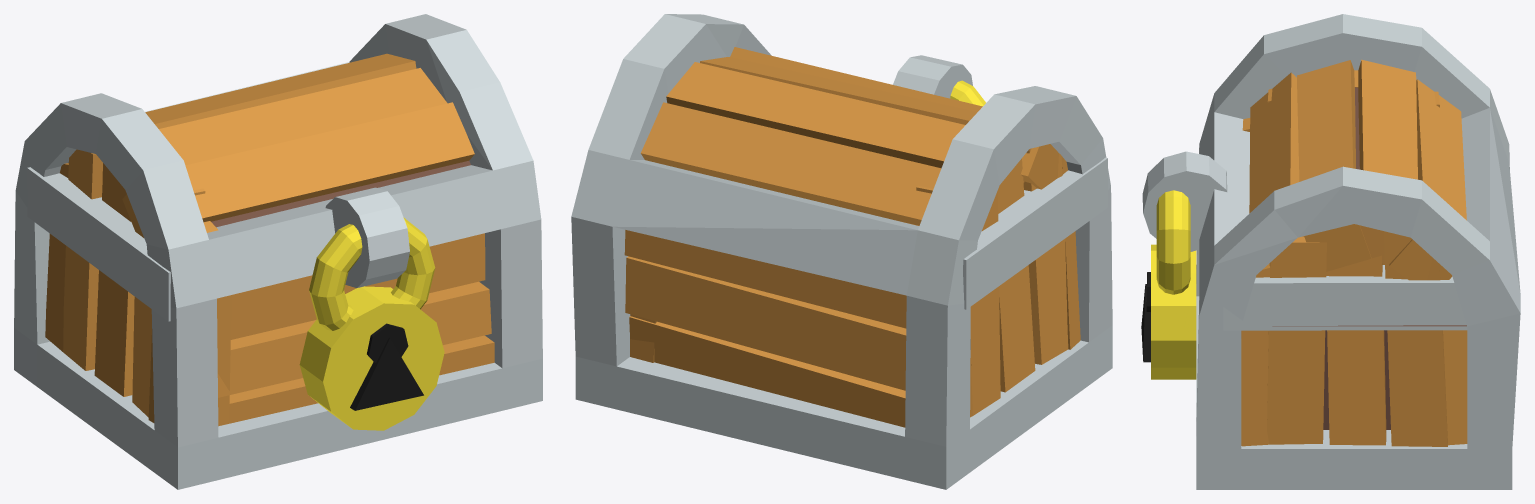
Rendered from TreasureChest.glb.
3 views of the same model, side by side, from view 1: azimuth 30°, elevation 25°; view 2: azimuth 150°, elevation 25°; view 3: azimuth 270°, elevation 25° (orthographic). The views are drawn at different scales.
Visible parts, largest first — view 1: group499985679, group310615892, group1052151225, group1423316105, group1317139868, group1180696515, group1203509567, group6712564, group1760450947, group1261123680, group1099241048, group1043152443 (+6 smaller); view 2: group499985679, group1388036914, group444722293, group1760450947, group362589451, group1317139868, group226312246, group1043152443, group2018329878, group1423316105, group310615892, group1099241048 (+2 smaller); view 3: group499985679, group780666706, group983706439, group1423316105, group802177887, group998265266, group1760450947, group1388036914, group310615892, group1052151225, group1261123680, group6712564 (+3 smaller).
Part boxes in pixels (x1,y1,x2,y2): group499985679: (14, 14, 542, 489); group310615892: (122, 102, 474, 237); group1052151225: (299, 286, 444, 430); group1423316105: (159, 68, 447, 165); group1317139868: (27, 167, 170, 321); group1180696515: (217, 281, 491, 397); group1203509567: (230, 233, 485, 339); group6712564: (309, 217, 435, 330); group1760450947: (102, 53, 416, 176); group1261123680: (325, 187, 409, 288); group1099241048: (63, 149, 102, 370); group1043152443: (94, 163, 134, 396); group499985679: (571, 14, 1112, 489); group1388036914: (640, 102, 941, 225); group444722293: (625, 256, 906, 390); group1760450947: (666, 62, 965, 168); group362589451: (629, 316, 905, 427); group1317139868: (963, 157, 1107, 309); group226312246: (624, 230, 906, 328); group1043152443: (998, 158, 1035, 392); group2018329878: (1023, 148, 1068, 364); group1423316105: (700, 57, 1024, 182); group310615892: (730, 47, 1064, 189); group1099241048: (916, 186, 1000, 415); group499985679: (1196, 14, 1520, 489); group780666706: (1223, 265, 1467, 330); group983706439: (1267, 236, 1326, 444); group1423316105: (1297, 60, 1371, 271); group802177887: (1383, 231, 1447, 446); group998265266: (1326, 255, 1386, 445); group1760450947: (1358, 59, 1417, 263); group1388036914: (1389, 79, 1466, 280); group310615892: (1249, 72, 1303, 236); group1052151225: (1151, 244, 1196, 379); group1261123680: (1142, 151, 1227, 251); group6712564: (1156, 190, 1190, 294).
Bounding box in the file's own units: 1.48 × 1.21 × 1.36.
